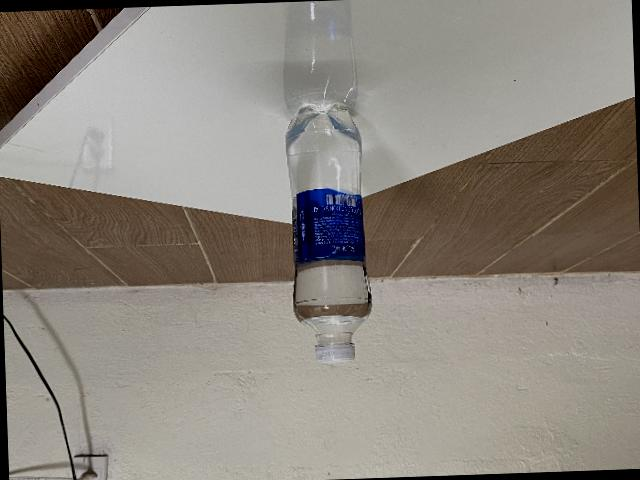aquafina: (284, 104, 371, 363)
